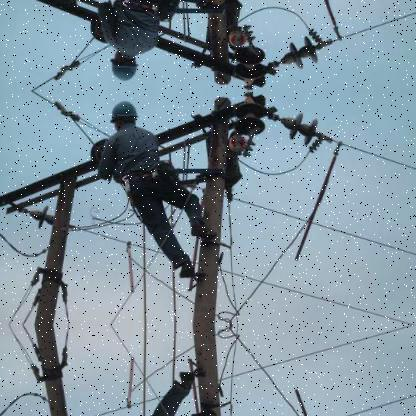Helmet: (110, 96, 142, 134)
